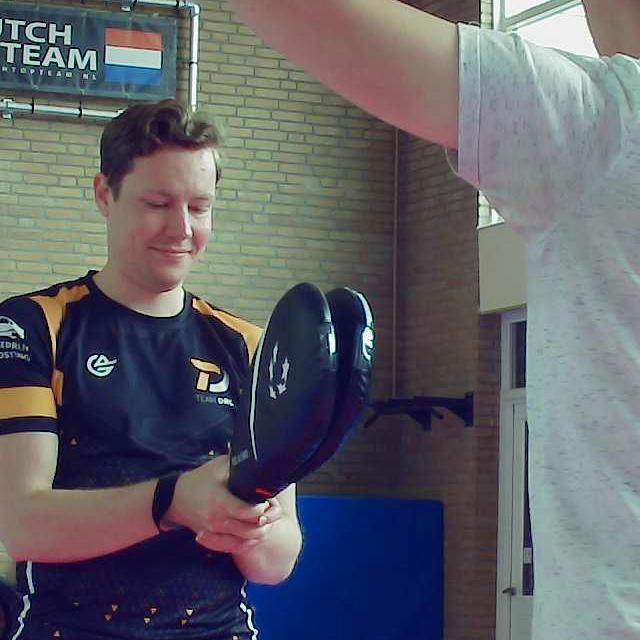paddle: (229, 286, 373, 502)
